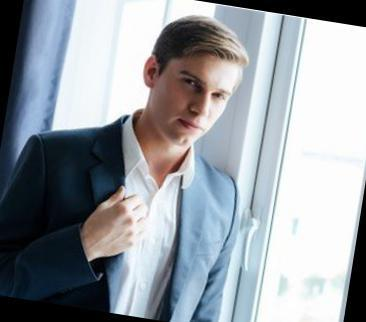Sober: (160, 55, 236, 142)
